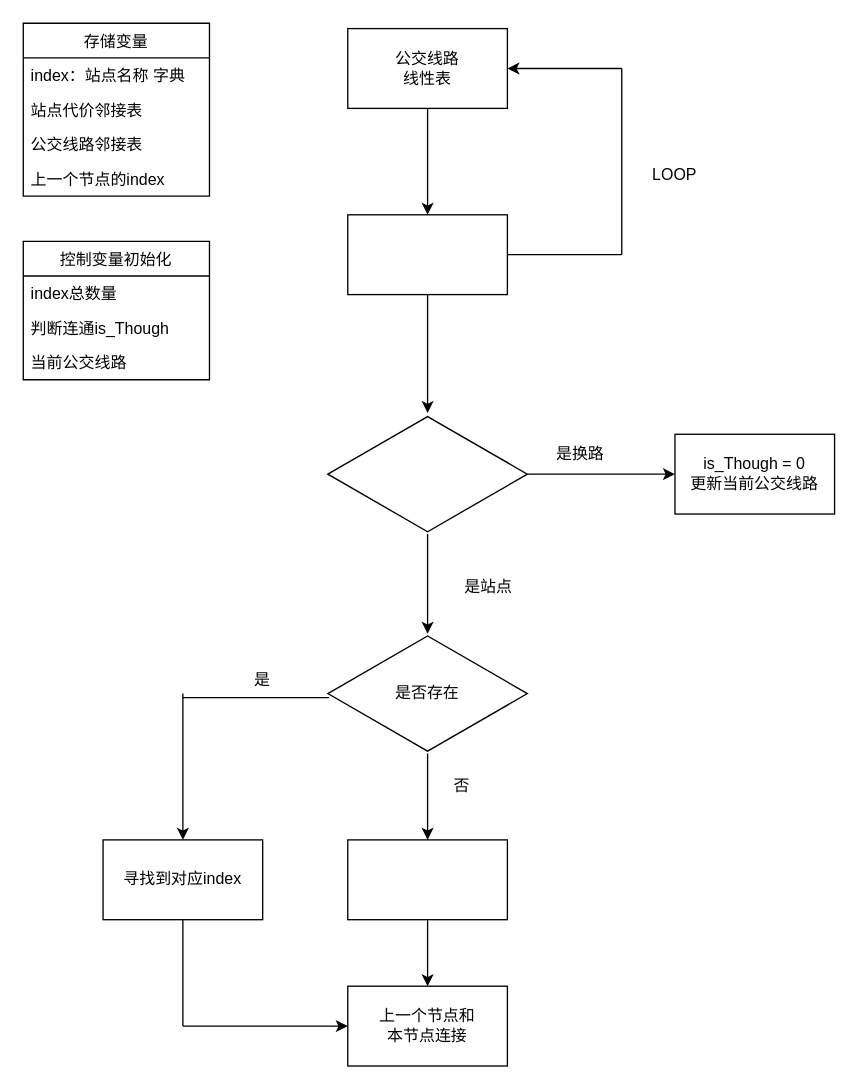
Some shapes in this 858 by 1089 pixel diagram are drawn without their labels. The centre of each missing label's shape, as x and y in pixels:
"index增1, 给当前节点分配index" belongs at point (426, 879).
"是站点还是换路" belongs at point (427, 473).
"读取一个元素" belongs at point (426, 254).
